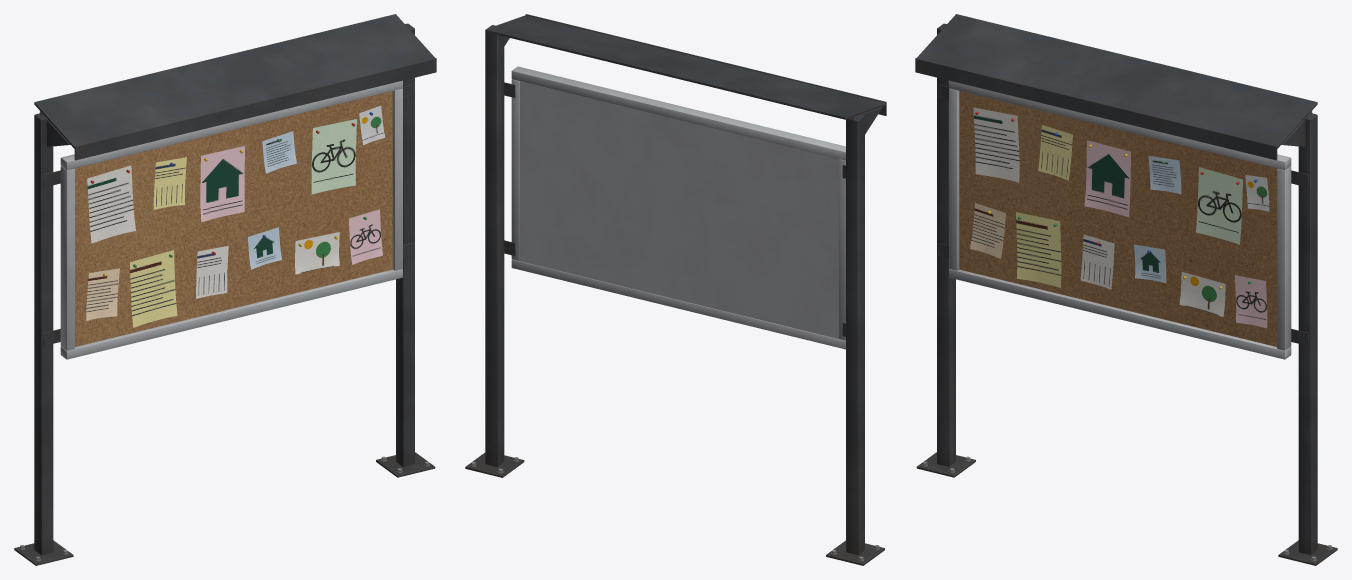
The model's file is notice-board.glb.
The picture shows the model from 3 angles, left to right: view 1: azimuth 30°, elevation 25°; view 2: azimuth 150°, elevation 25°; view 3: azimuth 330°, elevation 25°; orthographic projection.
Parts seen in each view (by area): view 1: notice-board_body, notice-board_cork_face, notice-board_notes; view 2: notice-board_body; view 3: notice-board_body, notice-board_cork_face, notice-board_notes.
Boxes of the visible parts, <box> form: notice-board_body: <box>14,14,436,565</box>; notice-board_cork_face: <box>75,91,392,346</box>; notice-board_notes: <box>86,105,385,327</box>; notice-board_body: <box>465,14,886,565</box>; notice-board_body: <box>915,14,1337,565</box>; notice-board_cork_face: <box>959,91,1276,346</box>; notice-board_notes: <box>970,107,1269,328</box>.
Bounding box in the file's own units: 1.9 × 2.02 × 0.349.
3 materials, 3 textured.
